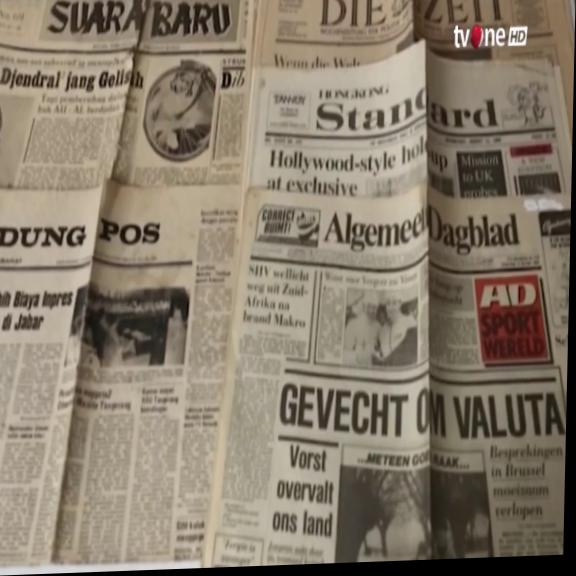Kertas: (2, 0, 573, 205), (206, 173, 433, 567), (0, 0, 140, 567), (53, 172, 242, 572), (421, 185, 571, 552)
